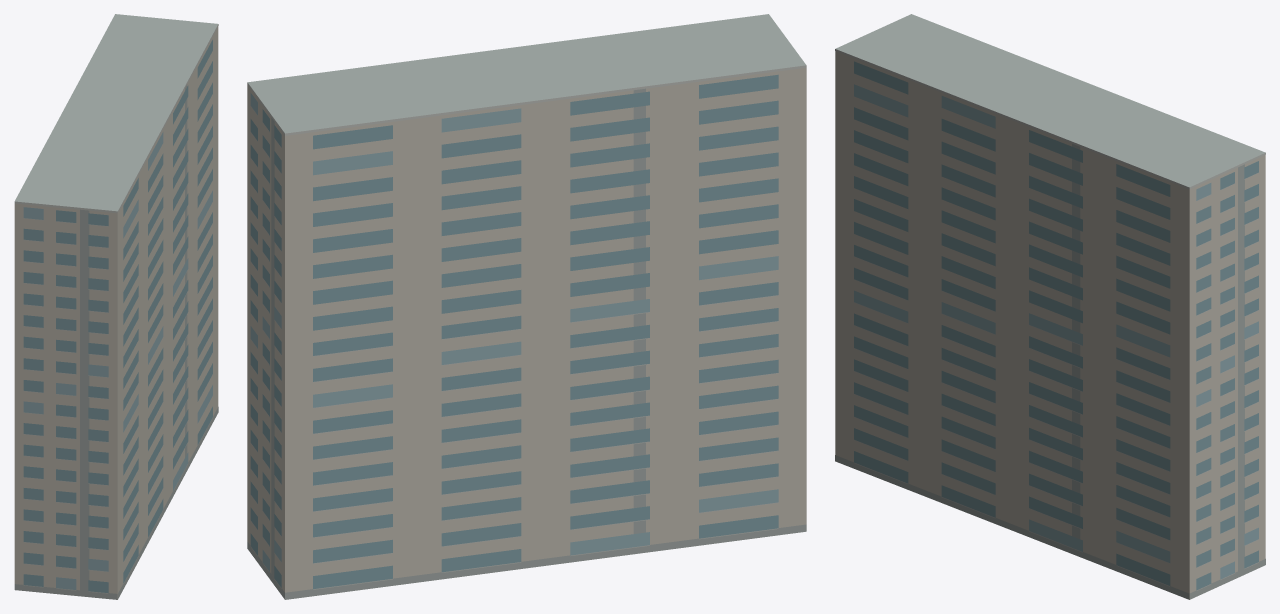
File: residential-256b94f5-8624-4b78-afd4-39770018da62.glb
The picture shows the model from 3 angles, left to right: view 1: azimuth 30°, elevation 25°; view 2: azimuth 150°, elevation 25°; view 3: azimuth 270°, elevation 25°; orthographic projection. The views are drawn at different scales.
Visible parts, largest first — view 1: residential-256b94f5-8624-4b78-afd4-39770018da62.tmp; view 2: residential-256b94f5-8624-4b78-afd4-39770018da62.tmp; view 3: residential-256b94f5-8624-4b78-afd4-39770018da62.tmp.
Boxes of the visible parts, x1,y1,x2,y2 form: residential-256b94f5-8624-4b78-afd4-39770018da62.tmp: (14,14,218,599); residential-256b94f5-8624-4b78-afd4-39770018da62.tmp: (247,14,806,599); residential-256b94f5-8624-4b78-afd4-39770018da62.tmp: (835,14,1265,599).
Bounding box in the file's own units: 43.3 × 48 × 45.43.
